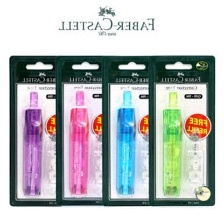book: (147, 53, 219, 210), (99, 53, 165, 212), (53, 53, 119, 208), (9, 54, 71, 208)
correction_fluid: (66, 89, 92, 198), (114, 88, 139, 197), (21, 89, 46, 197), (162, 90, 186, 197), (184, 132, 206, 198)
